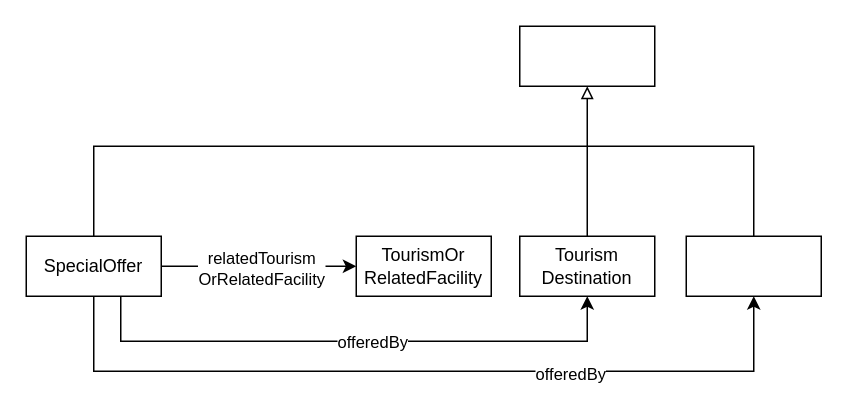
This 848x410 diagram has some shape labels left out. Here are the shapes that lost their labels. From the top down, the box of each, then its label:
(518, 25, 655, 86): TourismEntity
(685, 235, 821, 296): Tourism Organization
